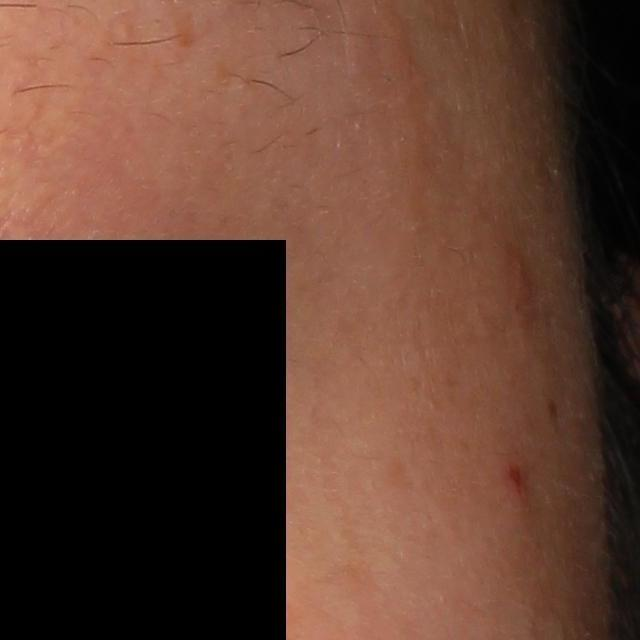papule: (502, 459, 531, 498)
